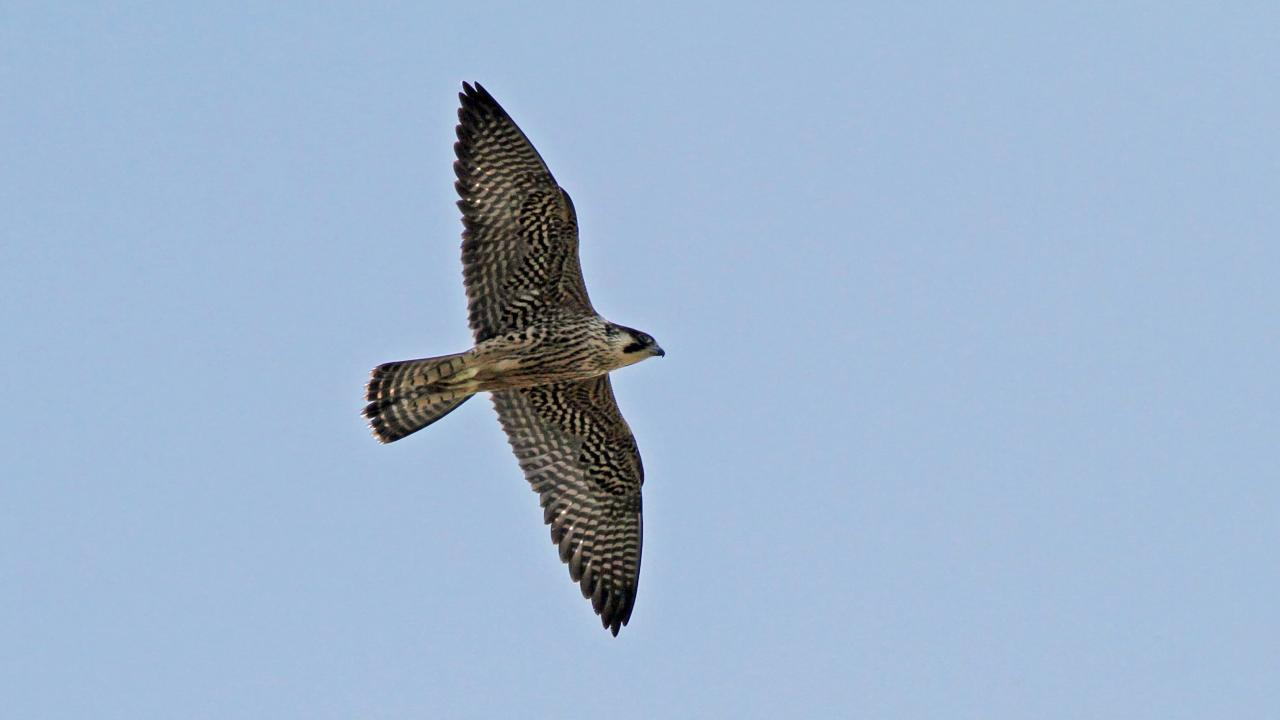Bird: (344, 69, 709, 647)
